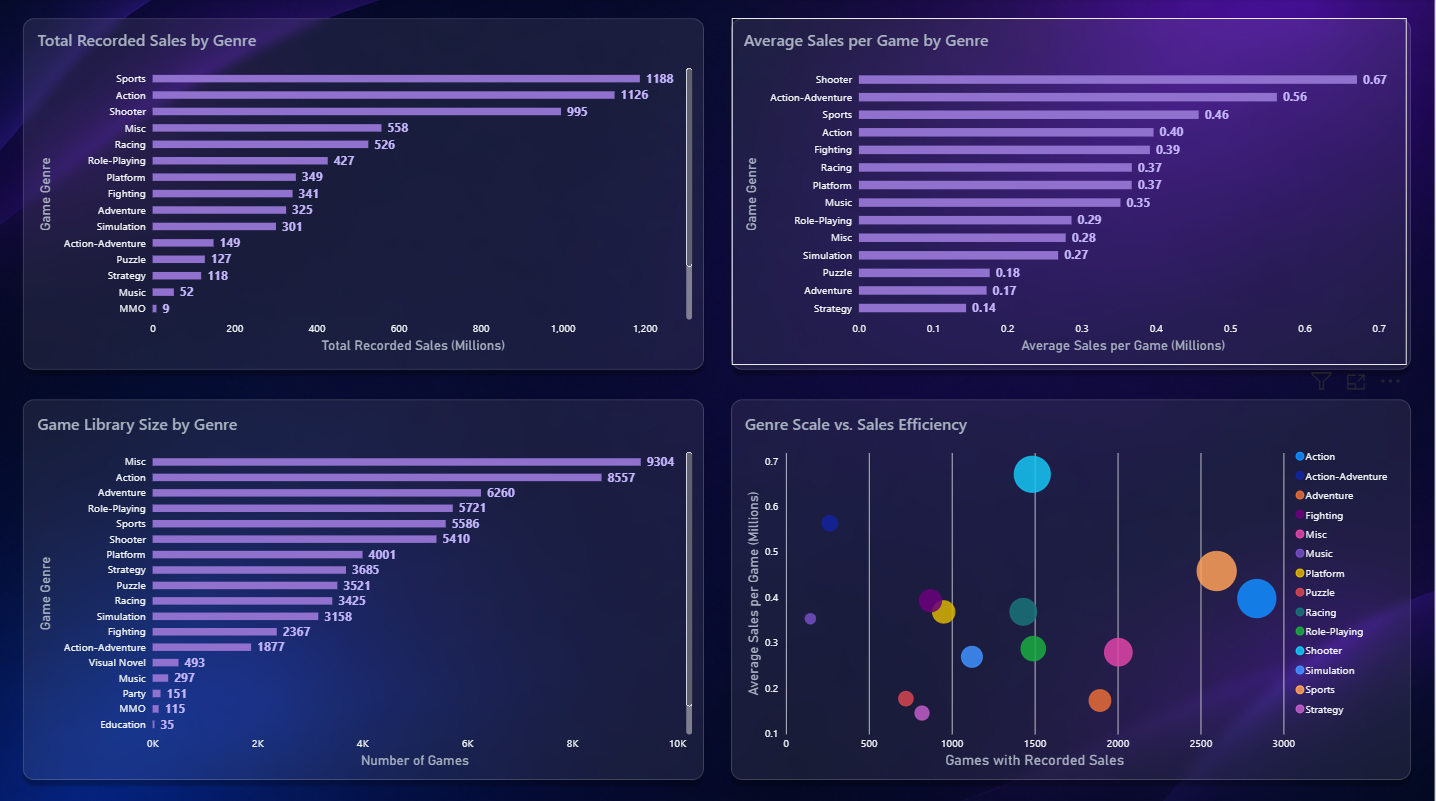

Layout of this report page (visuals, bound fields, positions):
{"tool":"powerbi","page":{"name":"GENRE ANALYSIS","canvas":[1920,1080],"ordinal":2},"visuals":[{"type":"clusteredBarChart","title":"Total Recorded Sales by Genre","fields":{"Category":["Final_Data.genre"],"Y":["Sum(Final_Data.total_sales)"]},"box":[36.2,27.1,906.6,463.3],"z":0},{"type":"clusteredBarChart","title":"Average Sales per Game by Genre","fields":{"Category":["Final_Data.genre"],"Y":["Avg(Final_Data.total_sales)"]},"box":[980.8,27.1,901.2,463.3],"z":1000},{"type":"clusteredBarChart","title":"Game Library Size by Genre","fields":{"Category":["Final_Data.genre"],"Y":["CountNonNull(Final_Data.title)"]},"box":[36.2,539.3,906.6,504.9],"z":2000},{"type":"scatterChart","title":"Genre Scale vs. Sales Efficiency","fields":{"Series":["Final_Data.genre"],"Size":["Final_Data.Total Recorded Sales"],"X":["Final_Data.Genre Games Count"],"Y":["Final_Data.Average Sales per Game"]},"box":[982.6,539.3,899.4,504.9],"z":3000}]}

Visuals, with their boxes in screenshot pixels (x1, y1, x2, y2), scaled from the page's 1920x1080 canvas onto the 1436x801 screenshot:
"Total Recorded Sales by Genre" clusteredBarChart: 27,20,705,364
"Average Sales per Game by Genre" clusteredBarChart: 734,20,1408,364
"Game Library Size by Genre" clusteredBarChart: 27,400,705,774
"Genre Scale vs. Sales Efficiency" scatterChart: 735,400,1408,774
